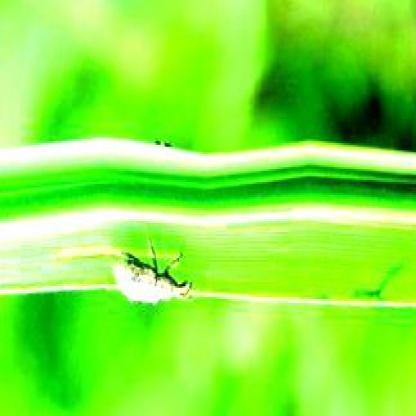rice-bug: (111, 242, 191, 308)
